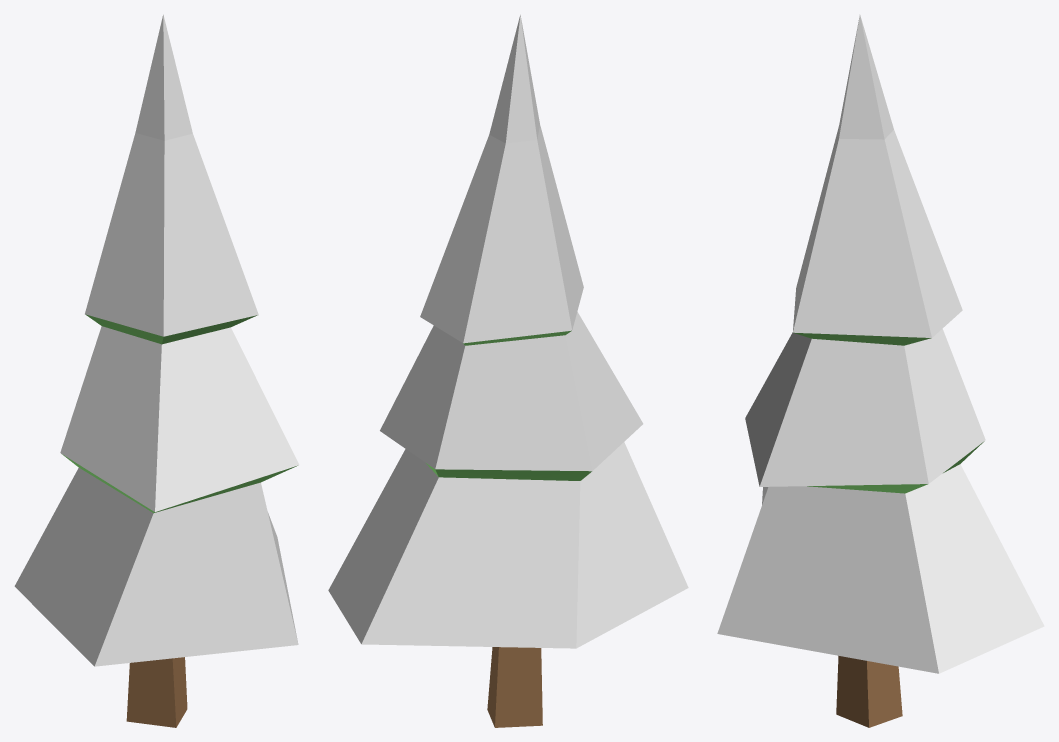
The model's file is Fir_Tree_s_Snow_02_LOD.fbx.
3 renders of one model, left to right at view 1: azimuth 30°, elevation 25°; view 2: azimuth 150°, elevation 25°; view 3: azimuth 270°, elevation 25°, orthographic.
Visible parts, largest first — view 1: Fir_Tree_s_Snow_02_LOD0; view 2: Fir_Tree_s_Snow_02_LOD0; view 3: Fir_Tree_s_Snow_02_LOD0.
Boxes of the visible parts, x1,y1,x2,y2 form: Fir_Tree_s_Snow_02_LOD0: [14, 14, 299, 727]; Fir_Tree_s_Snow_02_LOD0: [328, 14, 688, 727]; Fir_Tree_s_Snow_02_LOD0: [717, 15, 1044, 727].
Size of what is drawn, in the model's own units: 104 by 256 by 108.
